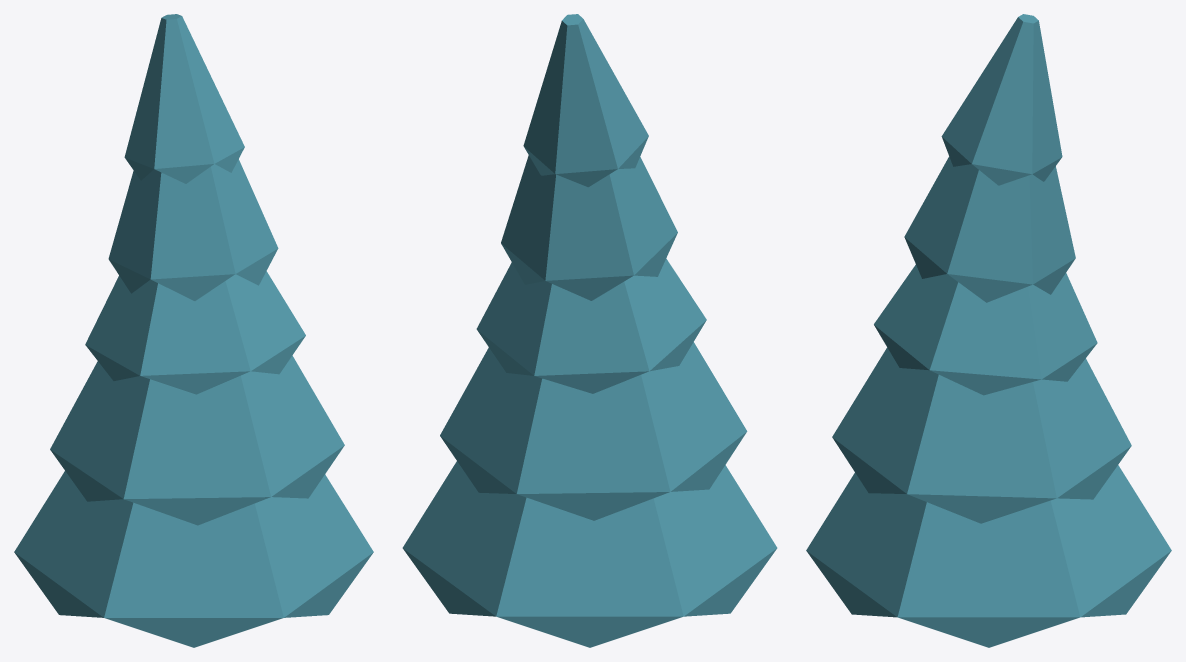
The model's file is tree_pineSmall_round4.fbx.
3 views of the same model, side by side, from view 1: azimuth 30°, elevation 25°; view 2: azimuth 150°, elevation 25°; view 3: azimuth 270°, elevation 25° (orthographic). The views are drawn at different scales.
Parts seen in each view (by area): view 1: tree_pineSmall_round4; view 2: tree_pineSmall_round4; view 3: tree_pineSmall_round4.
Part boxes in pixels (bbox=[...]): tree_pineSmall_round4: bbox=[14, 14, 373, 647]; tree_pineSmall_round4: bbox=[402, 14, 777, 647]; tree_pineSmall_round4: bbox=[806, 14, 1171, 647].
Size of the model in its own units: 4.8 by 9.42 by 5.55.
